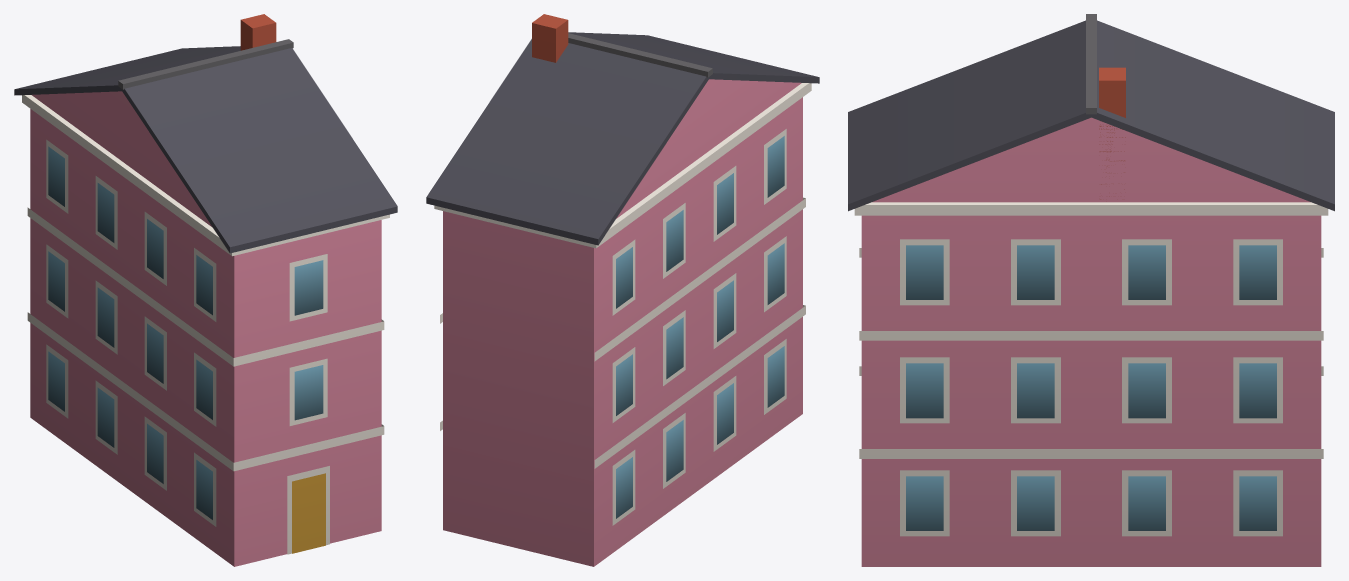
The model's file is beacon_n18_far.glb.
3 renders of one model, left to right at view 1: azimuth 30°, elevation 25°; view 2: azimuth 150°, elevation 25°; view 3: azimuth 270°, elevation 25°, orthographic. The views are drawn at different scales.
Visible parts, largest first — view 1: beacon_n18_far; view 2: beacon_n18_far; view 3: beacon_n18_far.
Boxes of the visible parts, left/top/right/bottom form: beacon_n18_far: left=14, top=14, right=397, bottom=566; beacon_n18_far: left=426, top=14, right=819, bottom=566; beacon_n18_far: left=848, top=14, right=1334, bottom=566.
Bounding box in the file's own units: 5.8 × 14 × 12.7.
1 material, 1 textured.
